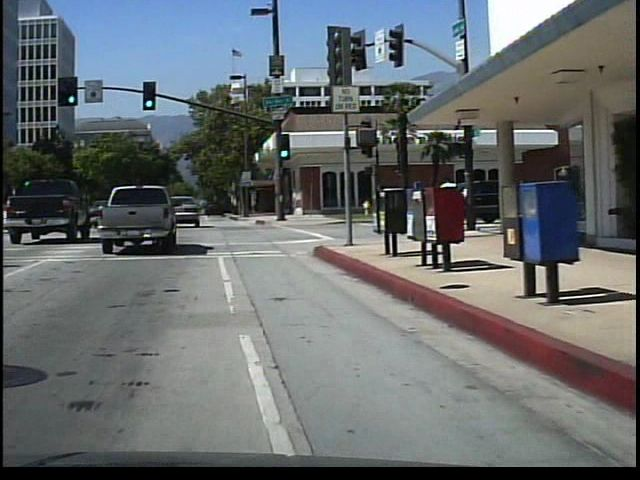car: (8, 174, 87, 241), (98, 186, 176, 252), (175, 191, 199, 226)
